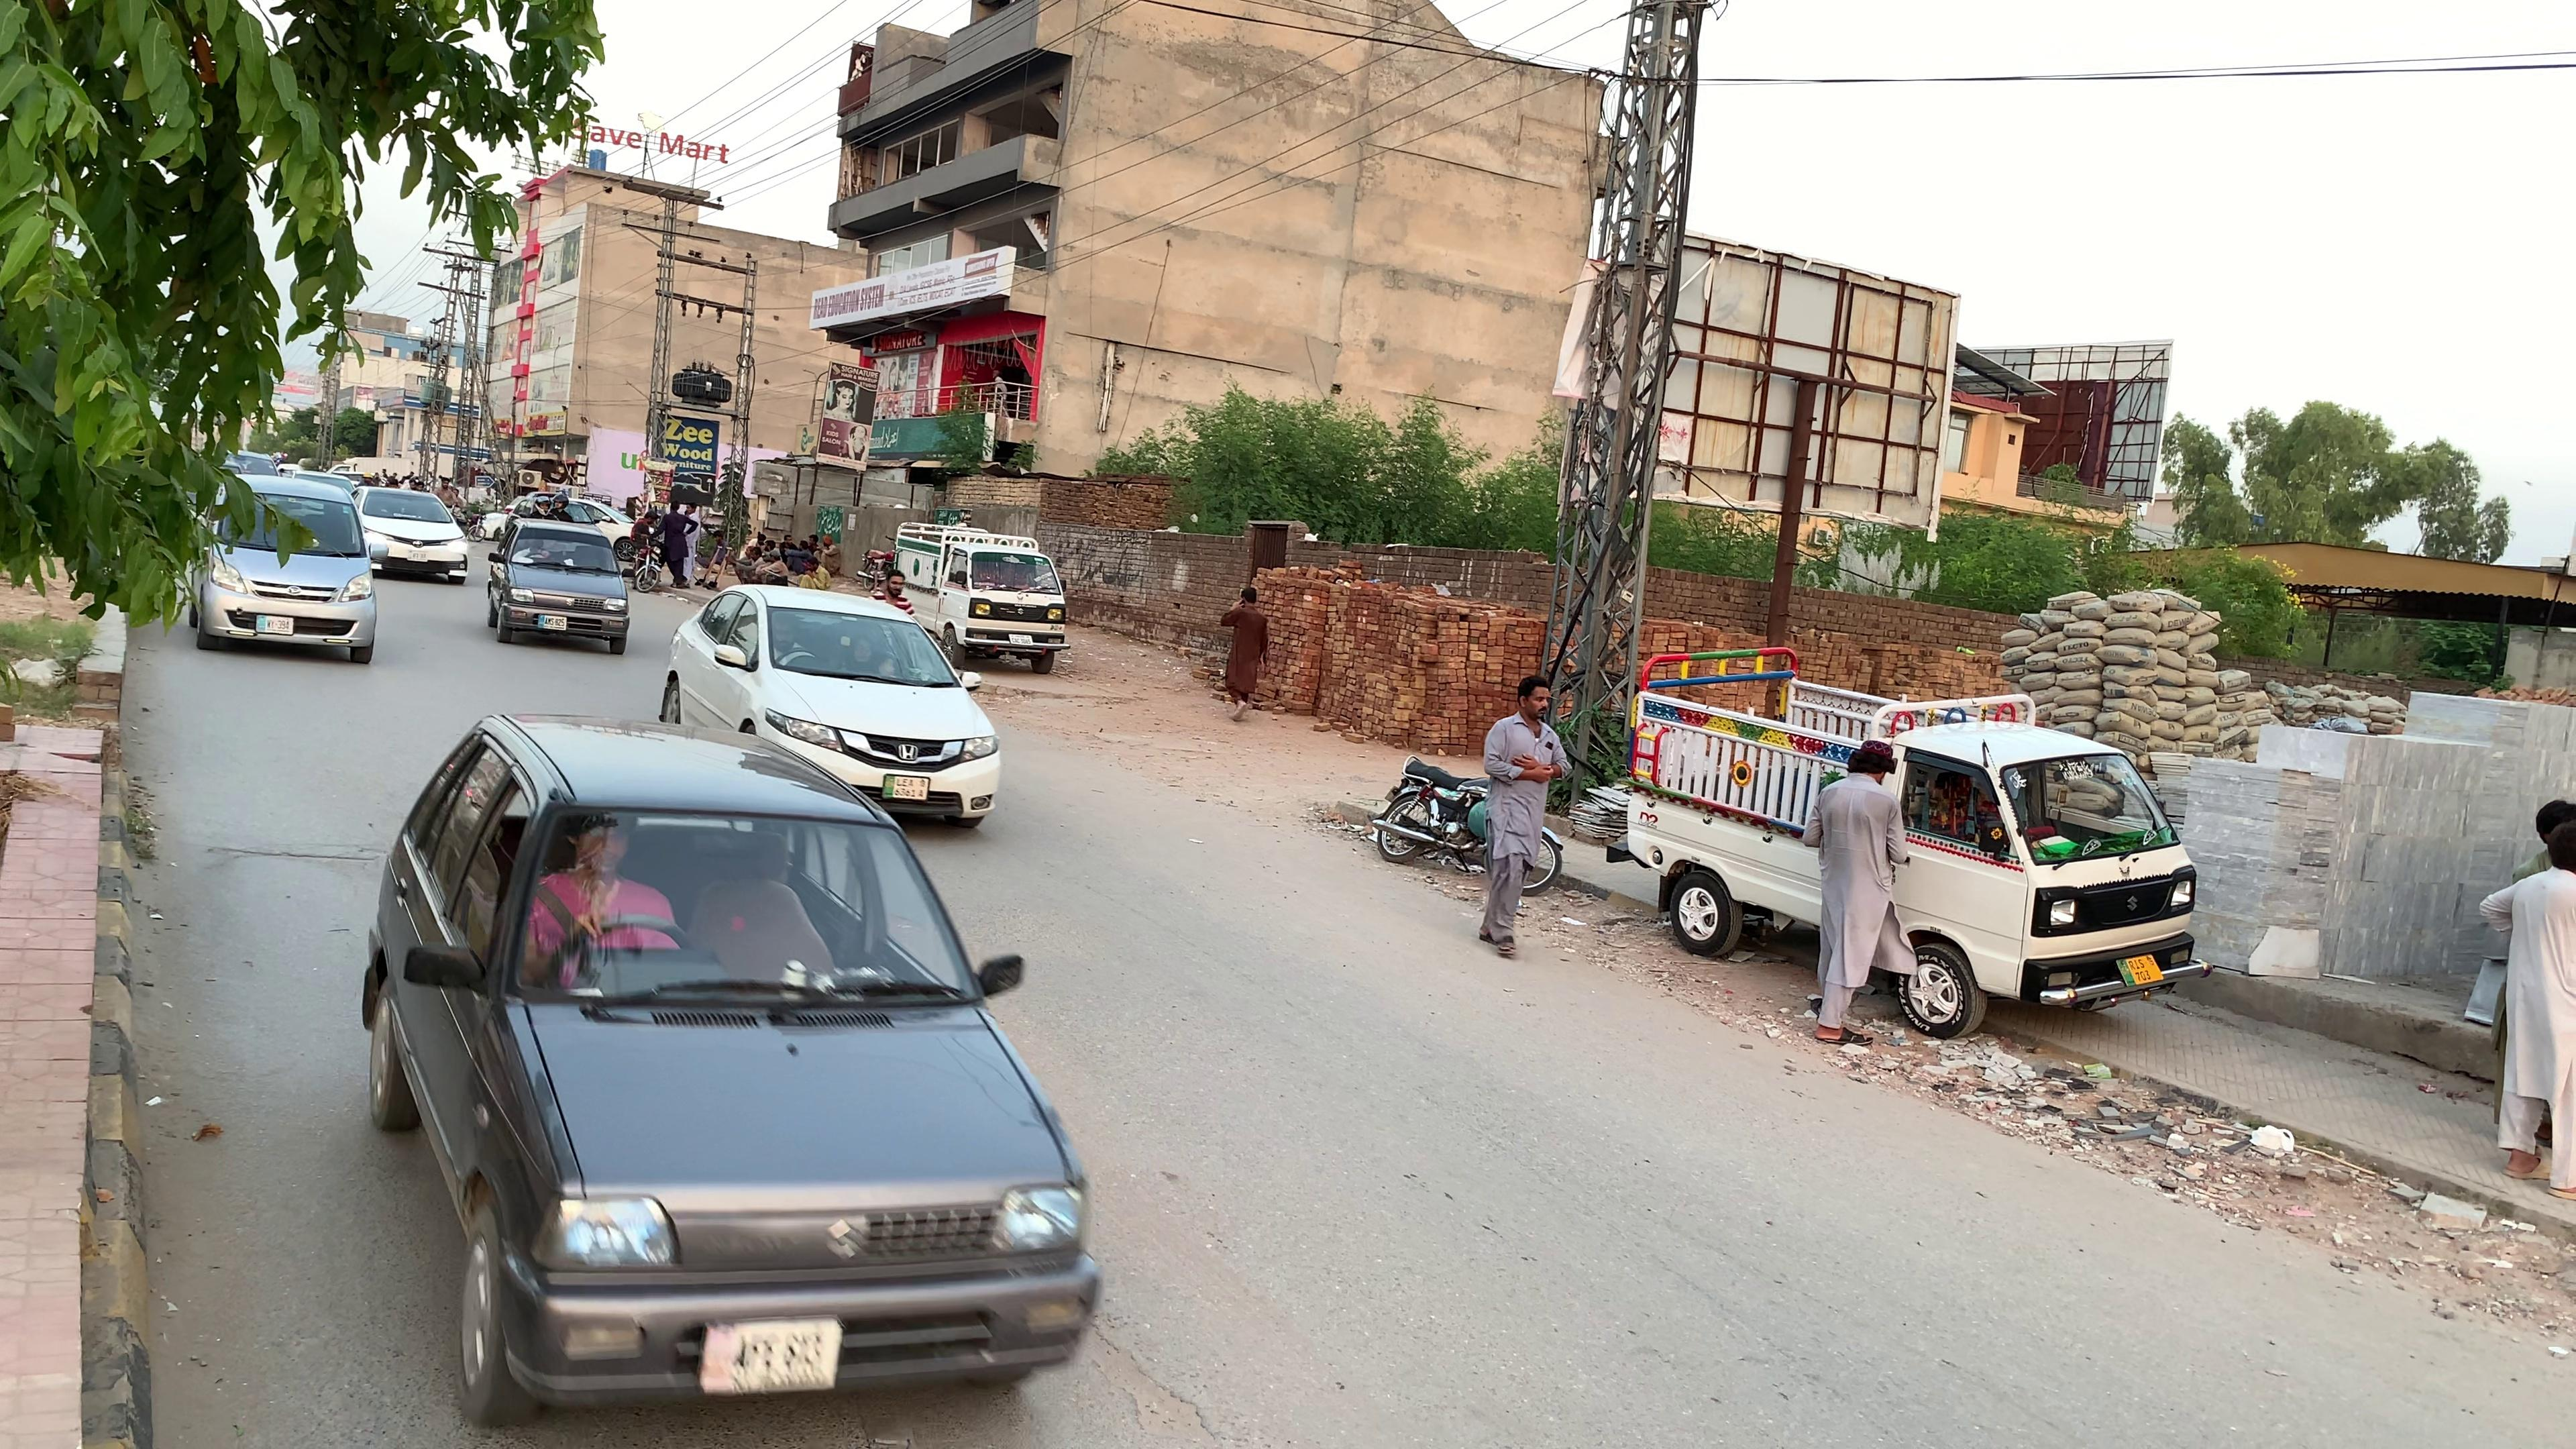windshield: (504, 778, 987, 1016), (764, 610, 975, 695)
